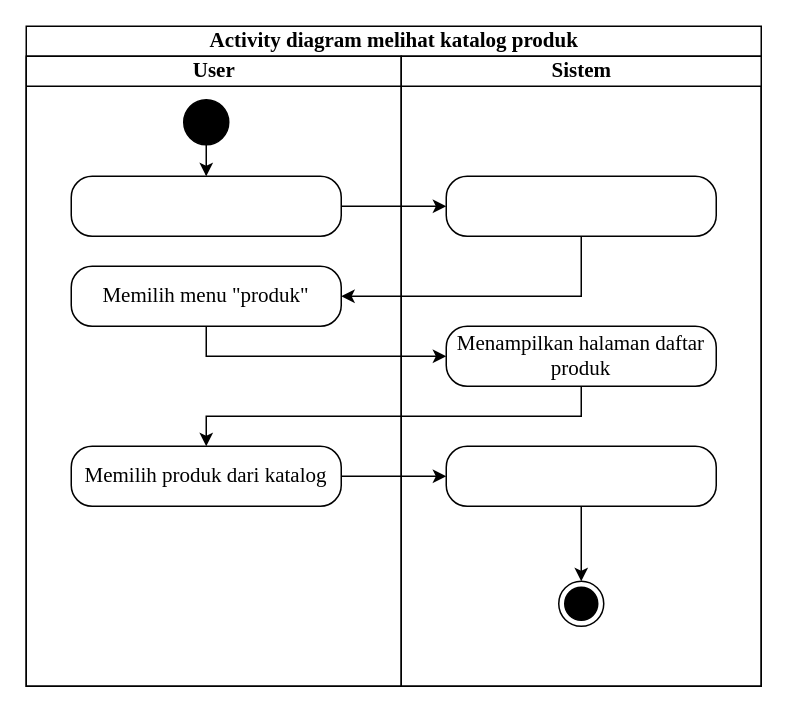
Some shapes in this 788 by 713 pixel diagram are drawn without their labels. The centre of each missing label's shape, as x and y in pixels:
Menampilkan halaman informasi detail produk dipilih: (580,475)
Menampilkan halaman utama: (580,205)
Mengakses halaman utama: (205,205)
